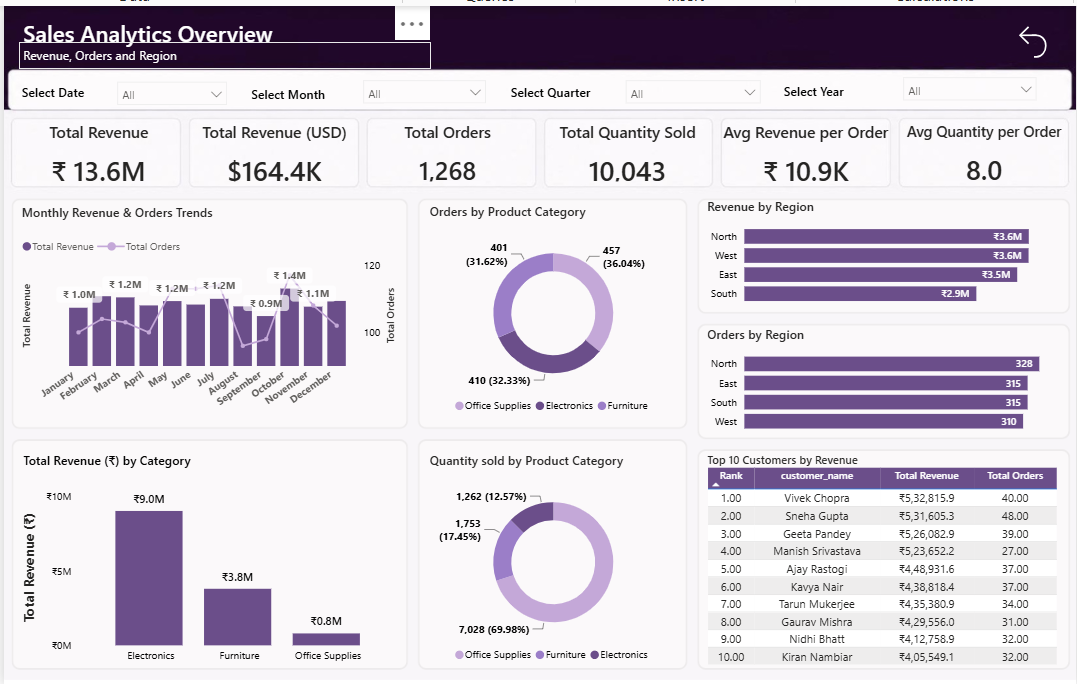

Layout of this report page (visuals, bound fields, positions):
{"tool":"powerbi","page":{"name":"Sales Analytics Overview","canvas":[1280,810],"ordinal":0},"visuals":[{"type":"textbox","box":[17.9,8.9,685.4,50.1],"z":0},{"type":"textbox","box":[17.9,42.9,492.1,32.2],"z":1000},{"type":"group","id":"g1","title":"Group 1","box":[925.1,75.2,316.7,46.5],"z":2000},{"type":"textbox","box":[16.9,87,119.5,29.9],"z":2000,"group":"g4"},{"type":"group","id":"g2","title":"Group 2","box":[599.1,79.2,312.2,46.8],"z":3000},{"type":"textbox","box":[925.1,85.2,146.7,36.6],"z":3000,"group":"g1"},{"type":"textbox","box":[599.1,87.7,119.9,32.2],"z":3000,"group":"g2"},{"type":"group","id":"g3","title":"Group 3","box":[290.5,79.2,294.8,40.3],"z":4000},{"type":"textbox","box":[290.5,89.6,128.6,29.9],"z":4000,"group":"g3"},{"type":"slicer","fields":{"Values":["dim_date.month_name"]},"box":[419.1,79.2,166.2,37.7],"z":5000,"group":"g3"},{"type":"group","id":"g4","title":"Group 4","box":[16.9,80.5,259.7,39],"z":5000},{"type":"slicer","fields":{"Values":["dim_date.full_date"]},"box":[126,80.5,150.6,39],"z":6000,"group":"g4"},{"type":"cardVisual","title":"Total Orders","fields":{"Data":["fact_sales.Total Orders"]},"box":[455.4,137.7,149.2,76.9],"z":6000},{"type":"slicer","fields":{"Values":["dim_date.quarter"]},"box":[730.8,79.2,180.5,46.8],"z":7000,"group":"g2"},{"type":"cardVisual","title":"Total Revenue","fields":{"Data":["fact_sales.Total Revenue"]},"box":[16.2,137.7,193.8,76.9],"z":7000},{"type":"cardVisual","title":"Total Revenue (USD)","fields":{"Data":["fact_sales.Total Revenue USD"]},"box":[224.6,137.7,194.6,76.9],"z":8000},{"type":"slicer","fields":{"Values":["dim_date.year"]},"box":[1062.9,75.2,178.9,40.6],"z":8001,"group":"g1"},{"type":"cardVisual","title":"Total Quantity Sold","fields":{"Data":["fact_sales.Total Quantity Sold"]},"box":[647.7,137.7,192.3,76.9],"z":9000},{"type":"cardVisual","title":"Avg Revenue per Order","fields":{"Data":["fact_sales.Avg Revenue per order"]},"box":[850,137.7,213.1,76.9],"z":10000},{"type":"cardVisual","title":"Avg Quantity per Order","fields":{"Data":["fact_sales.Avg Quantity per order"]},"box":[1061.5,137.7,216.2,76.9],"z":11000},{"type":"clusteredBarChart","title":"Revenue by Region","fields":{"Category":["dim_region.region"],"Y":["fact_sales.Total Revenue"]},"box":[833.9,229,429.5,137.8],"z":12000},{"type":"clusteredBarChart","title":"Orders by Region","fields":{"Category":["dim_region.region"],"Y":["fact_sales.Total Orders"]},"box":[833.9,381.2,429.5,137.8],"z":13000},{"type":"donutChart","title":"Orders by Product Category","fields":{"Category":["dim_product.product_category"],"Y":["fact_sales.Total Orders"]},"box":[502.8,234.4,304.2,261.3],"z":14000},{"type":"donutChart","title":"Quantity sold by Product Category","fields":{"Category":["dim_product.product_category"],"Y":["fact_sales.Total Quantity Sold"]},"box":[502.8,531.5,304.2,261.3],"z":15000},{"type":"tableEx","title":"Top 10 Customers by Revenue","fields":{"Values":["fact_sales.Customer Rank","dim_customer.customer_name","fact_sales.Total Revenue","fact_sales.Total Orders"]},"box":[833.9,531.5,429.5,261.3],"z":16000},{"type":"columnChart","fields":{"Category":["dim_product.product_category"],"Y":["fact_sales.Total Revenue"]},"box":[17.9,531.5,458.1,261.3],"z":17000},{"type":"lineStackedColumnComboChart","title":"Monthly Revenue & Orders Trends","fields":{"Category":["dim_date.month_name"],"Y":["fact_sales.Total Revenue"],"Y2":["fact_sales.Total Orders"]},"box":[16.1,236.2,459.9,261.3],"z":18000},{"type":"actionButton","box":[1191.8,17.9,71.6,50.1],"z":19000}]}

Visuals, with their boxes in screenshot pixels (x1, y1, x2, y2), scaled from the page's 1280x810 canvas onto the 1077x684 screenshot:
textbox: 15 8 592 50
textbox: 15 36 429 63
"Group 1" group: 778 64 1045 103
textbox: 14 73 115 99
"Group 2" group: 504 67 767 106
textbox: 778 72 902 103
textbox: 504 74 605 101
"Group 3" group: 244 67 492 101
textbox: 244 76 353 101
slicer - dim_date.month_name: 353 67 492 99
"Group 4" group: 14 68 233 101
slicer - dim_date.full_date: 106 68 233 101
"Total Orders" cardVisual: 383 116 509 181
slicer - dim_date.quarter: 615 67 767 106
"Total Revenue" cardVisual: 14 116 177 181
"Total Revenue (USD)" cardVisual: 189 116 353 181
slicer - dim_date.year: 894 64 1045 98
"Total Quantity Sold" cardVisual: 545 116 707 181
"Avg Revenue per Order" cardVisual: 715 116 894 181
"Avg Quantity per Order" cardVisual: 893 116 1075 181
"Revenue by Region" clusteredBarChart: 702 193 1063 310
"Orders by Region" clusteredBarChart: 702 322 1063 438
"Orders by Product Category" donutChart: 423 198 679 419
"Quantity sold by Product Category" donutChart: 423 449 679 669
"Top 10 Customers by Revenue" tableEx: 702 449 1063 669
columnChart - dim_product.product_category x fact_sales.Total Revenue: 15 449 401 669
"Monthly Revenue & Orders Trends" lineStackedColumnComboChart: 14 199 401 420
actionButton: 1003 15 1063 57
